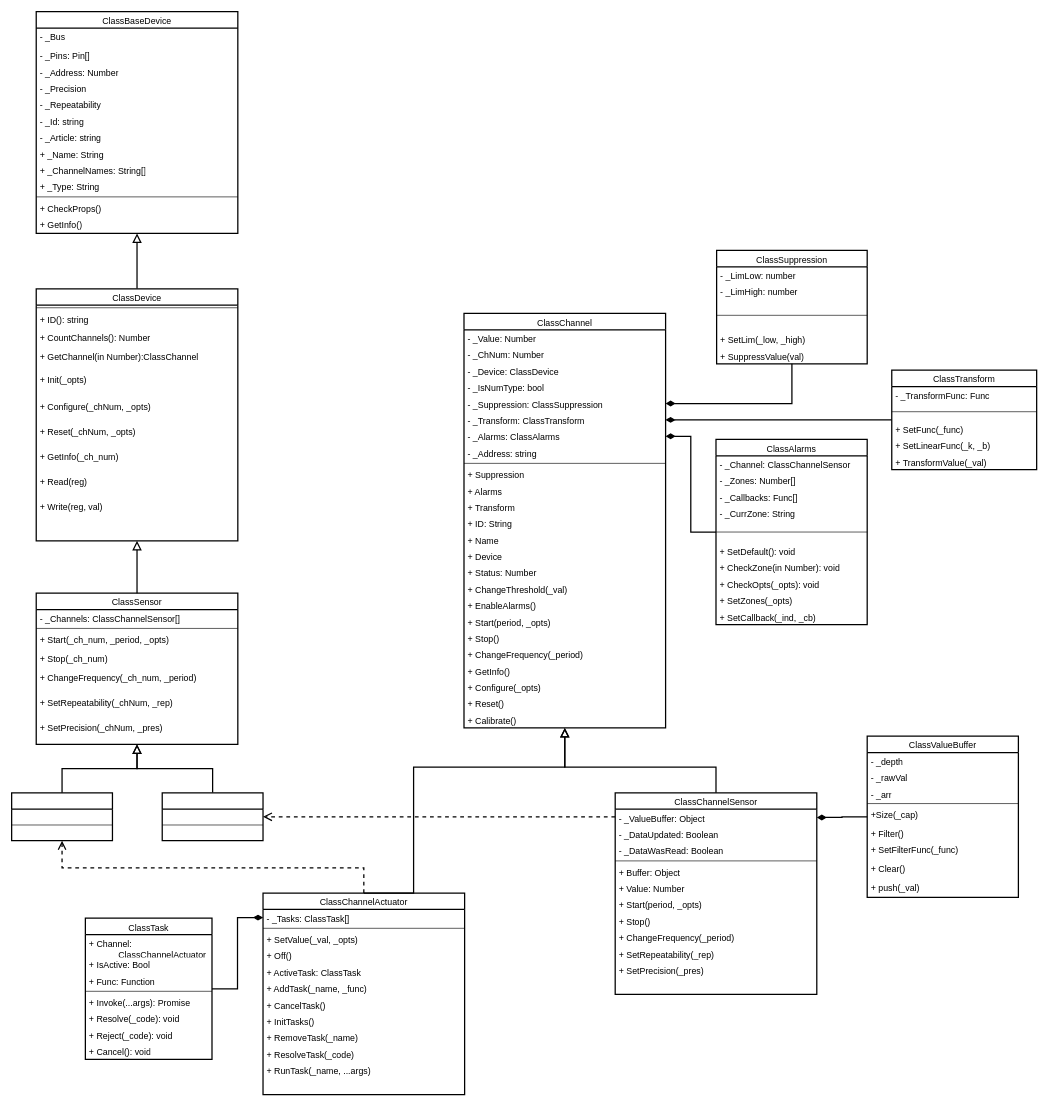
Image size: 1048x1106. Some labels were removed from this diagram. Each missing label, with the centre of its shape:
ClassSomeActuator: the point at 62,816
ClassSomeSensor: the point at 212,816
